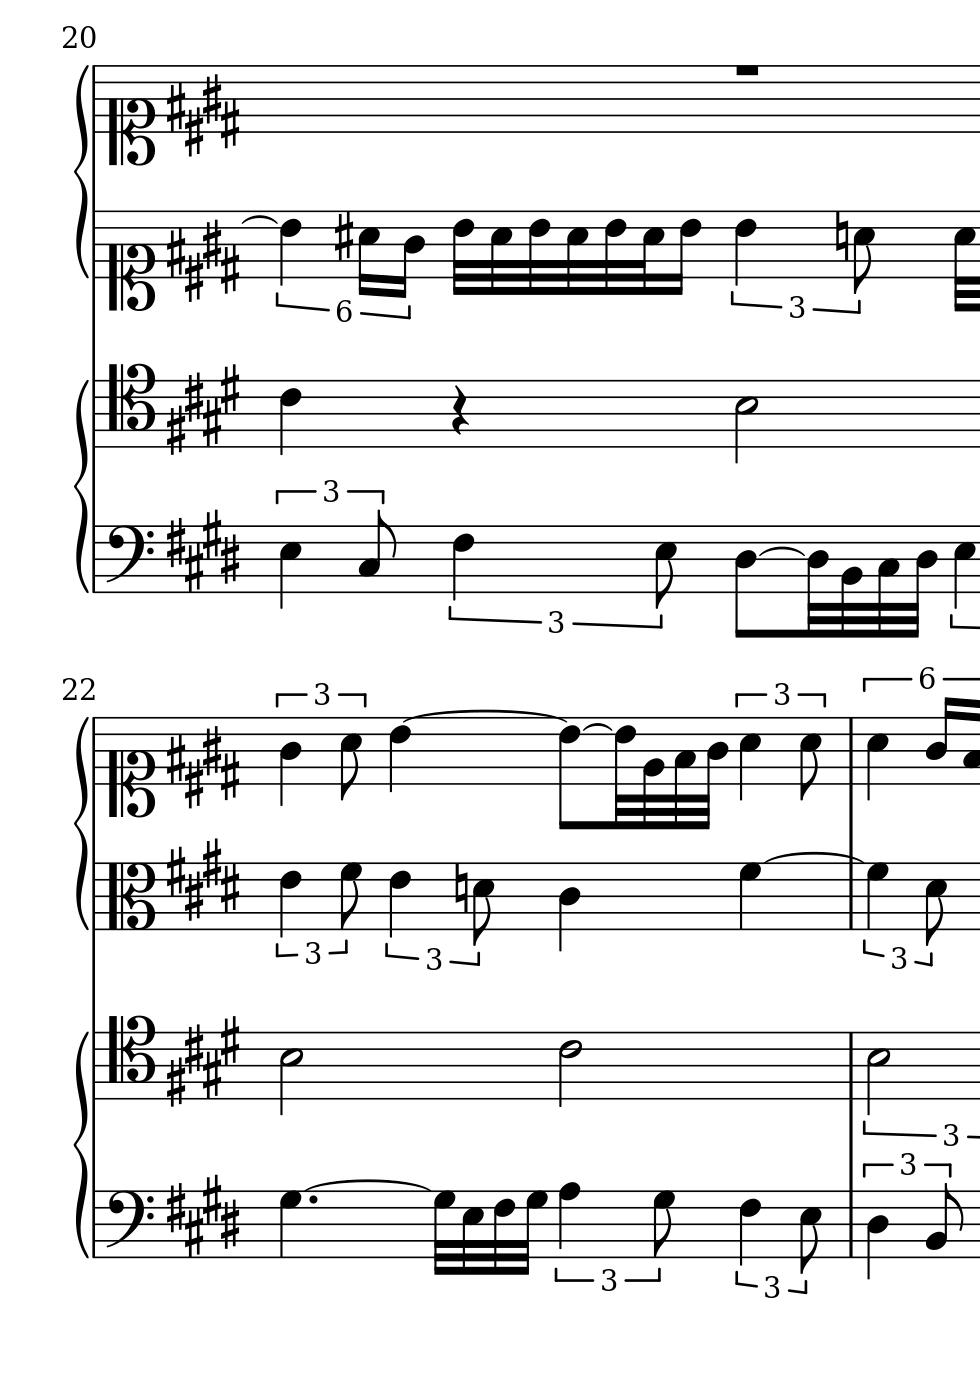0: (78, 23, 97, 51)
16_4: (924, 694, 956, 786), (393, 208, 425, 298)
16_5: (355, 208, 379, 295)
16_6: (668, 208, 702, 296)
2: (77, 676, 97, 703), (59, 676, 78, 703), (60, 24, 78, 51)
2_5: (733, 378, 757, 464), (278, 1031, 302, 1116), (865, 1030, 889, 1112)
2_6: (558, 1031, 581, 1108)
3: (771, 679, 792, 707), (941, 1121, 961, 1150), (302, 938, 321, 967), (426, 944, 444, 973), (313, 679, 330, 709), (321, 476, 338, 505), (547, 609, 564, 637), (898, 1150, 916, 1176)
32_2: (838, 524, 863, 641), (641, 715, 666, 831)
32_3: (874, 524, 899, 637), (672, 714, 696, 831)
32_4: (906, 524, 937, 641), (699, 715, 728, 832), (804, 525, 830, 638)
32_5: (951, 210, 977, 314), (634, 210, 665, 296), (488, 207, 514, 297), (563, 207, 589, 297), (460, 1188, 484, 1277)
32_6: (612, 715, 637, 831), (449, 209, 475, 297), (526, 208, 552, 297), (602, 209, 627, 297), (492, 1189, 515, 1276)
32_7: (521, 1189, 547, 1275), (431, 1188, 455, 1276)
4_4: (556, 861, 581, 952), (278, 717, 301, 808), (865, 1190, 889, 1280)
4_5: (276, 524, 302, 611), (737, 715, 762, 803), (865, 716, 889, 803), (952, 524, 976, 610)
4_6: (732, 209, 757, 287), (449, 523, 474, 601), (277, 209, 301, 287), (387, 715, 412, 793), (277, 861, 301, 938), (387, 861, 410, 938), (278, 379, 301, 455), (738, 1189, 760, 1266)
4_7: (864, 860, 890, 931), (737, 861, 763, 931), (277, 1189, 302, 1259)
4_8: (557, 1181, 580, 1260)
6: (918, 665, 935, 690)
8_2: (924, 1183, 962, 1259)
8_3: (356, 508, 397, 594)
8_4: (732, 524, 757, 638)
8_5: (922, 861, 948, 947), (470, 861, 495, 946), (797, 716, 821, 802), (652, 524, 677, 609), (797, 1189, 821, 1274), (851, 209, 875, 293), (338, 716, 361, 802)
8_6: (556, 715, 580, 830)
8_7: (651, 1189, 675, 1259), (338, 861, 362, 930)
Brace: (73, 1027, 90, 1256), (73, 376, 90, 598), (73, 62, 90, 281), (75, 713, 89, 930)
Cclef: (105, 860, 155, 931)
E_S: (165, 365, 242, 457), (165, 1016, 242, 1106), (164, 220, 243, 301), (167, 507, 239, 595), (167, 71, 242, 155), (167, 724, 241, 809), (165, 1176, 241, 1257), (165, 839, 239, 922)
Fclef: (103, 523, 154, 596), (103, 1188, 153, 1260)
Natural: (833, 209, 848, 264), (452, 861, 468, 916)
Rests1: (731, 62, 762, 78)
Rests4: (448, 384, 470, 437)
Sharp: (333, 210, 354, 263)
Single_barline: (842, 1032, 860, 1100), (842, 718, 860, 784), (843, 864, 861, 929), (843, 1191, 859, 1257), (88, 1032, 103, 1101), (88, 379, 102, 449), (89, 862, 103, 932), (89, 211, 103, 280), (88, 718, 102, 786), (88, 66, 102, 133), (89, 1191, 102, 1259), (89, 526, 102, 593)
Slur: (402, 710, 564, 723), (764, 850, 867, 865), (307, 1178, 426, 1191), (758, 545, 804, 558), (240, 214, 278, 227), (581, 724, 614, 733)
Soprano_Cclef: (105, 62, 155, 166), (106, 208, 155, 312), (106, 714, 154, 819)
Tensor_Cclef: (105, 361, 156, 450), (105, 1014, 155, 1099)
dot: (307, 1194, 318, 1207)
